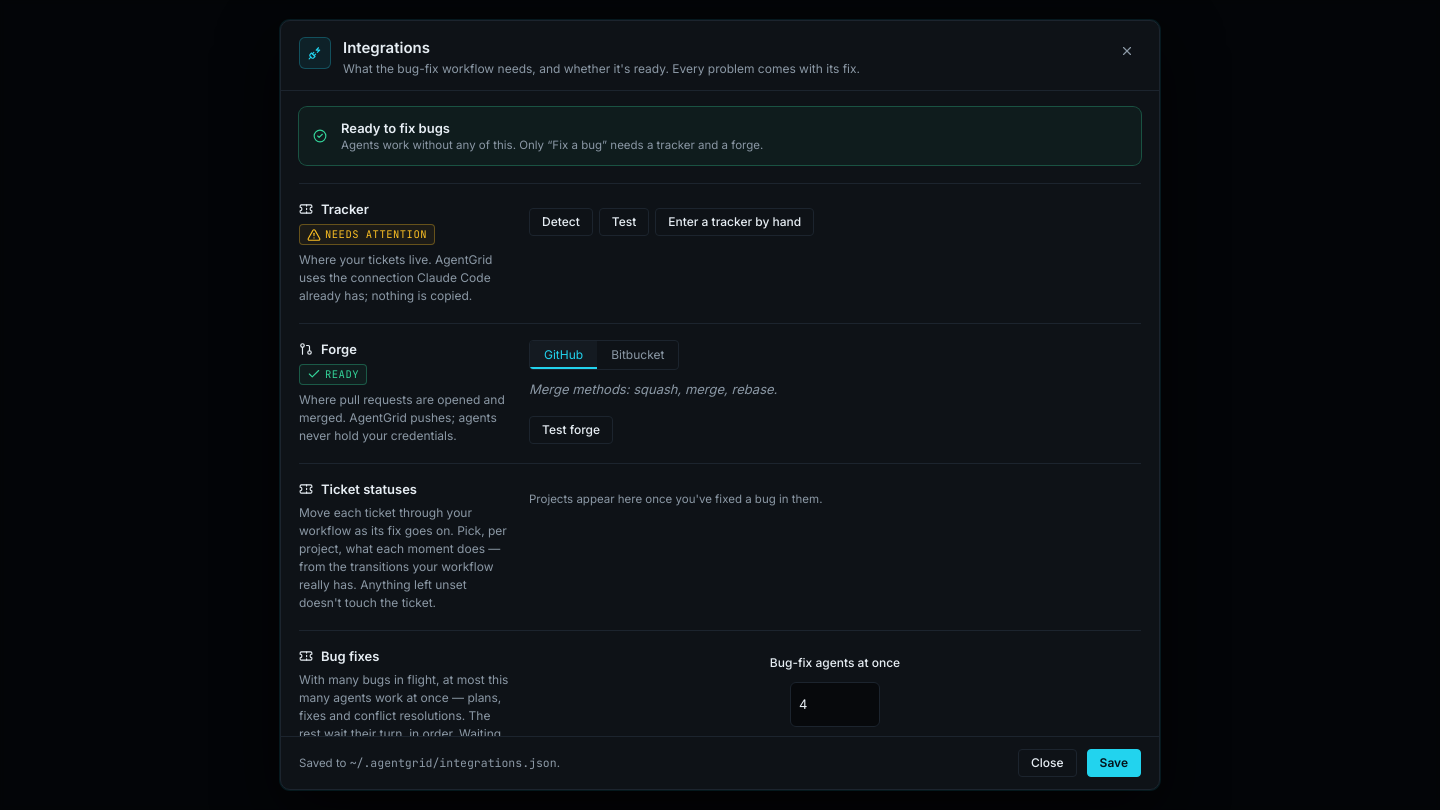
Test: SettingsDialog › says a restart is needed only when an engine is already running
Click the button "Save" at coordinates (1114, 763), box [1087, 749, 1141, 777]
(page scrolled)
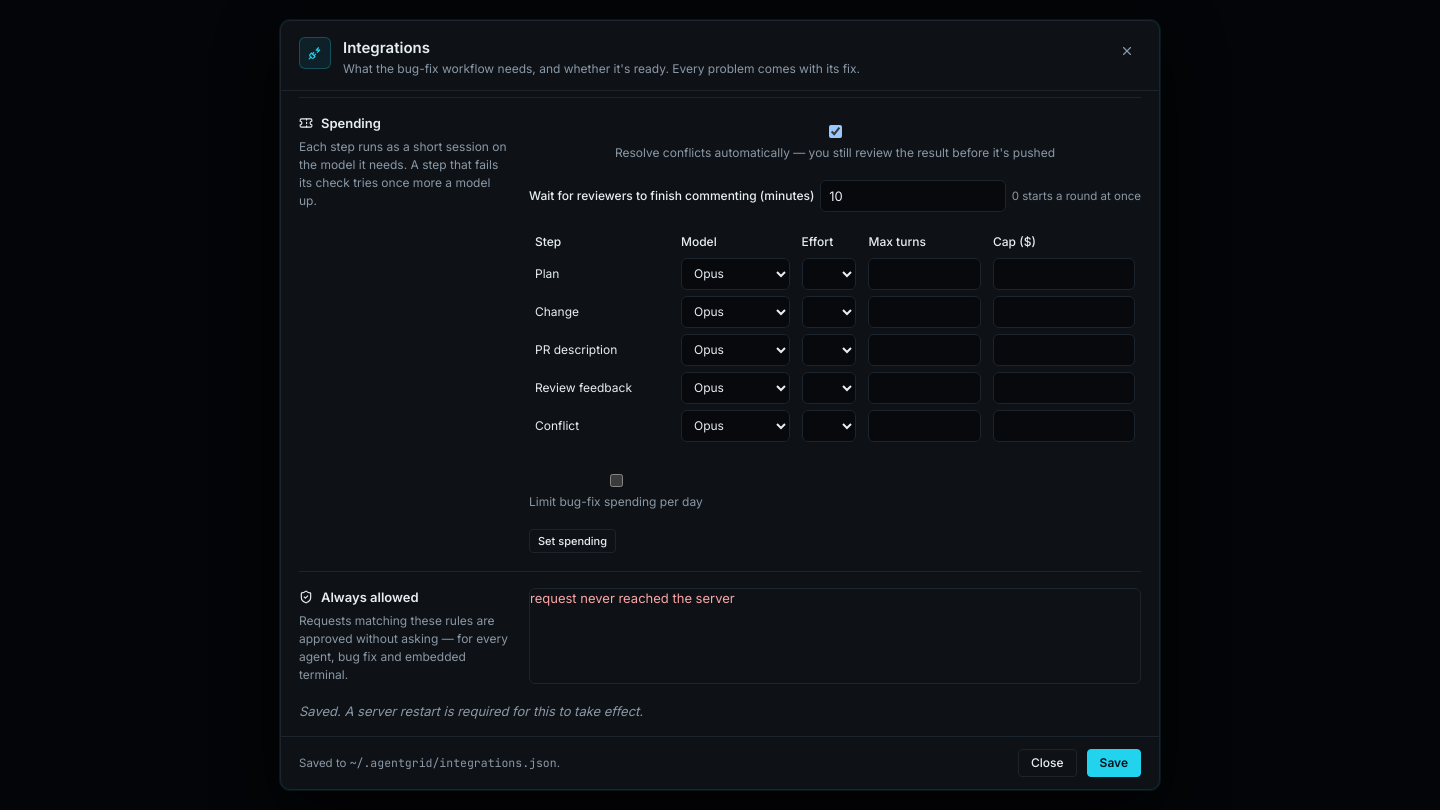
Check: the text "Saved. A server restart is required for this to take effect." is shown, box [299, 703, 643, 719]
